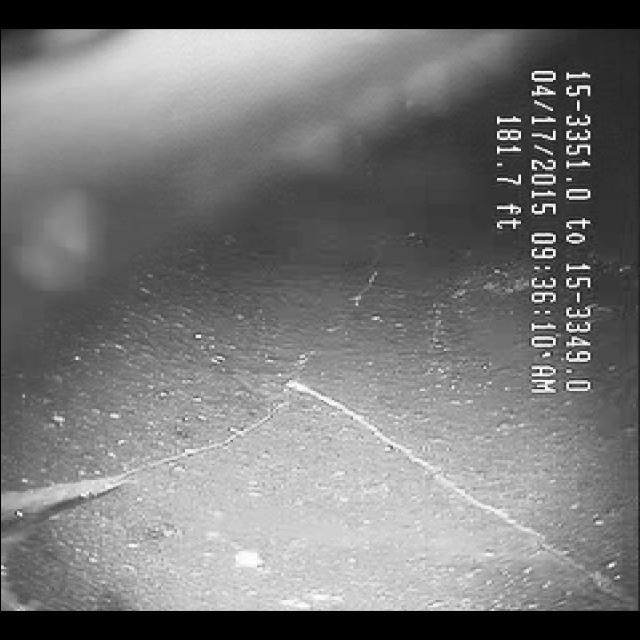Crack: (63, 322, 503, 560)
